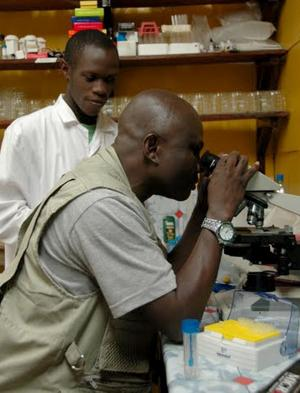person: (3, 87, 257, 393)
